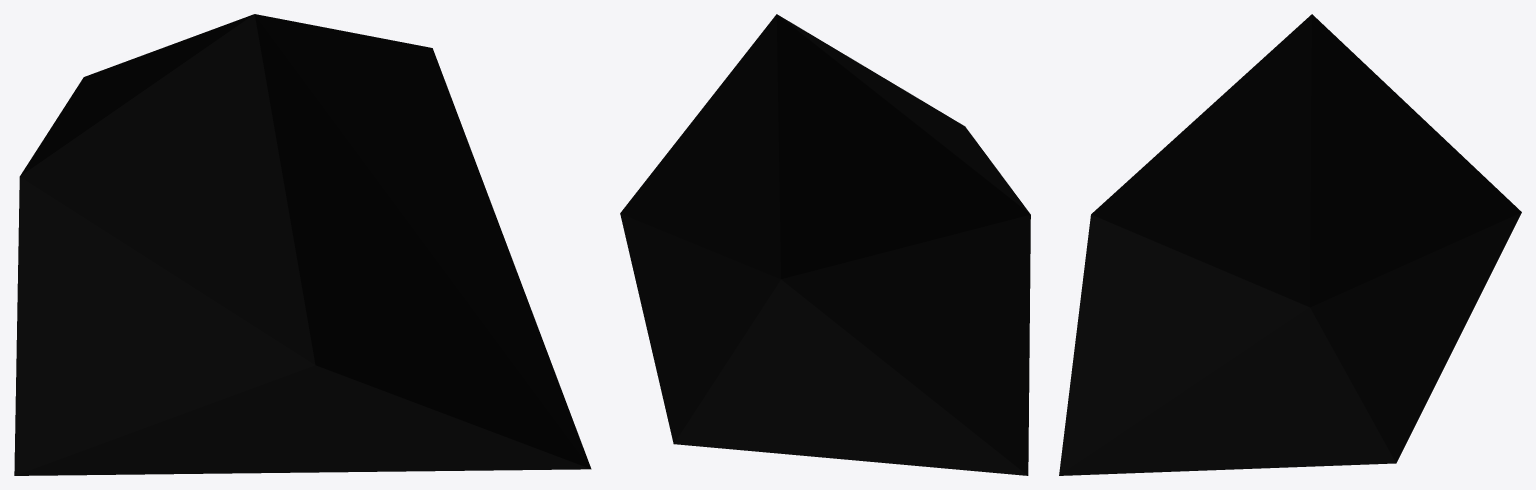
The picture shows the model from 3 angles, left to right: view 1: azimuth 30°, elevation 25°; view 2: azimuth 150°, elevation 25°; view 3: azimuth 270°, elevation 25°; orthographic projection. The views are drawn at different scales.
Bounding box in the file's own units: 0.0213 × 0.0191 × 0.0235.
Materials: 1 (1 with a texture image).
